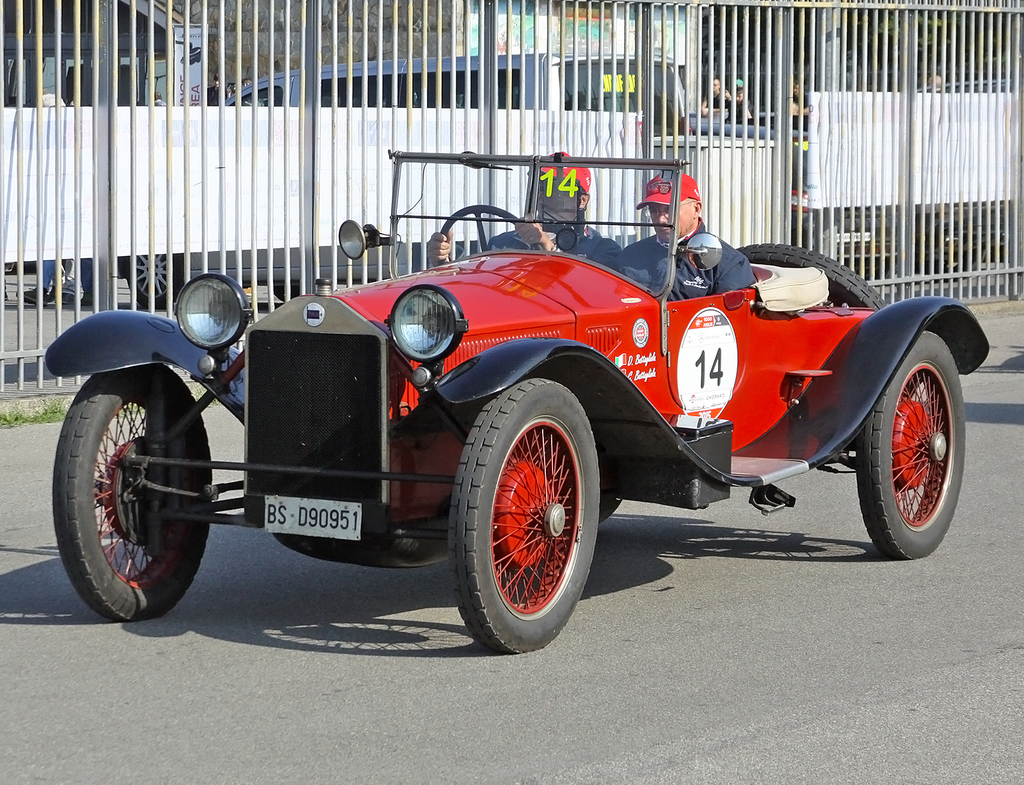Car: (45, 149, 998, 684)
